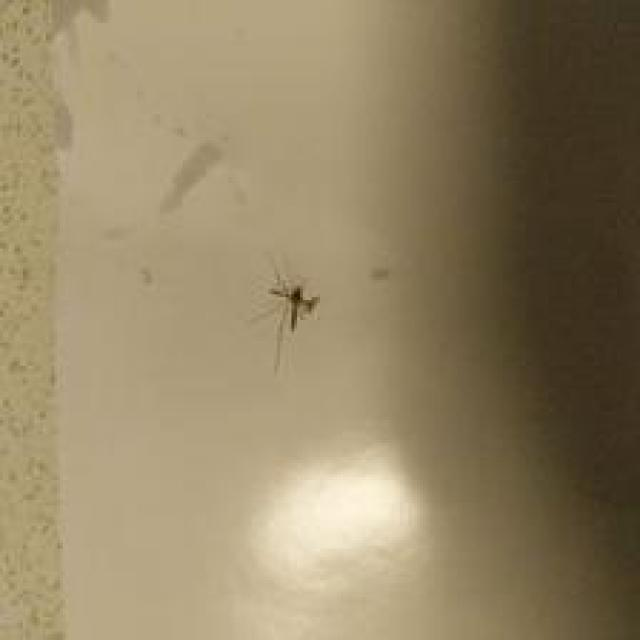Culex: (250, 261, 321, 373)
